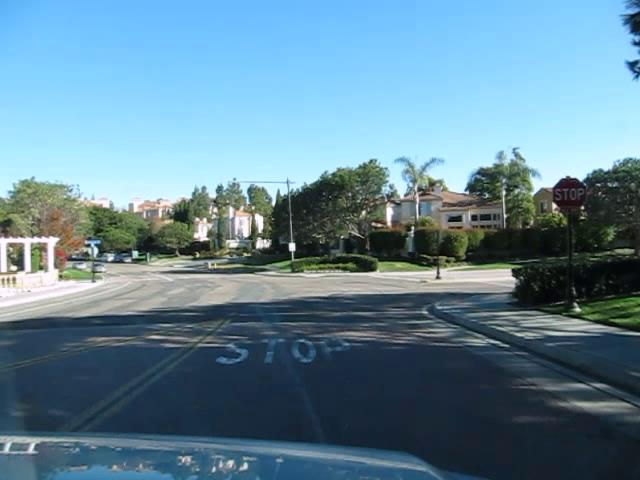stop: (552, 177, 587, 211)
